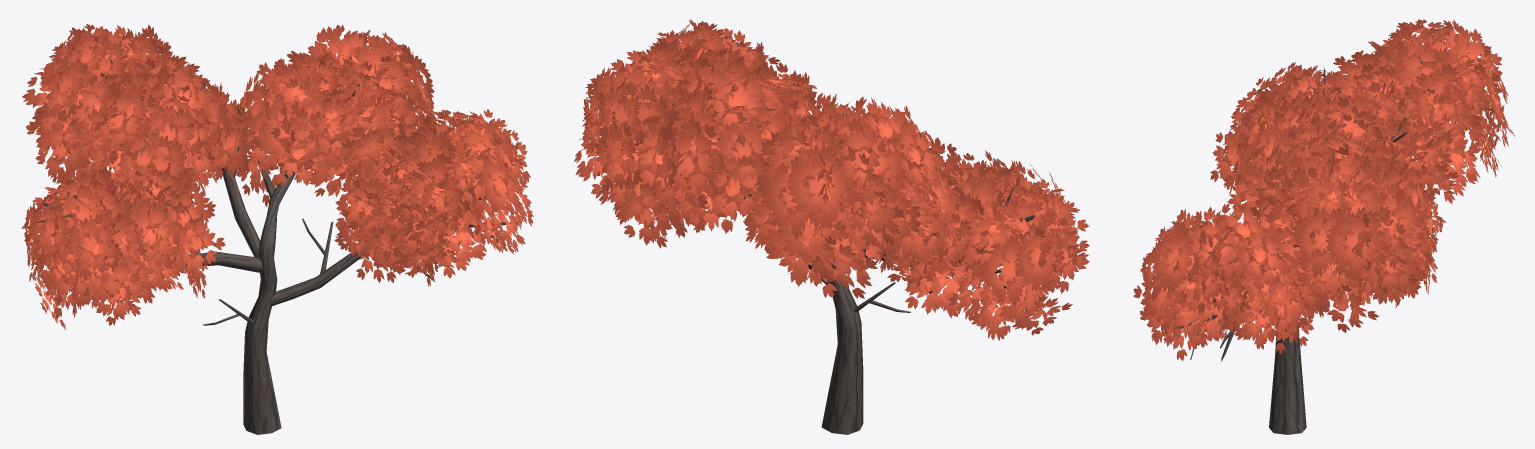
Rendered from MapleTree_3.glb.
3 renders of one model, left to right at view 1: azimuth 30°, elevation 25°; view 2: azimuth 150°, elevation 25°; view 3: azimuth 270°, elevation 25°, orthographic. The views are drawn at different scales.
Bounding box in the file's own units: 8.98 × 6.99 × 6.61.
Materials: 2 (2 with a texture image).
